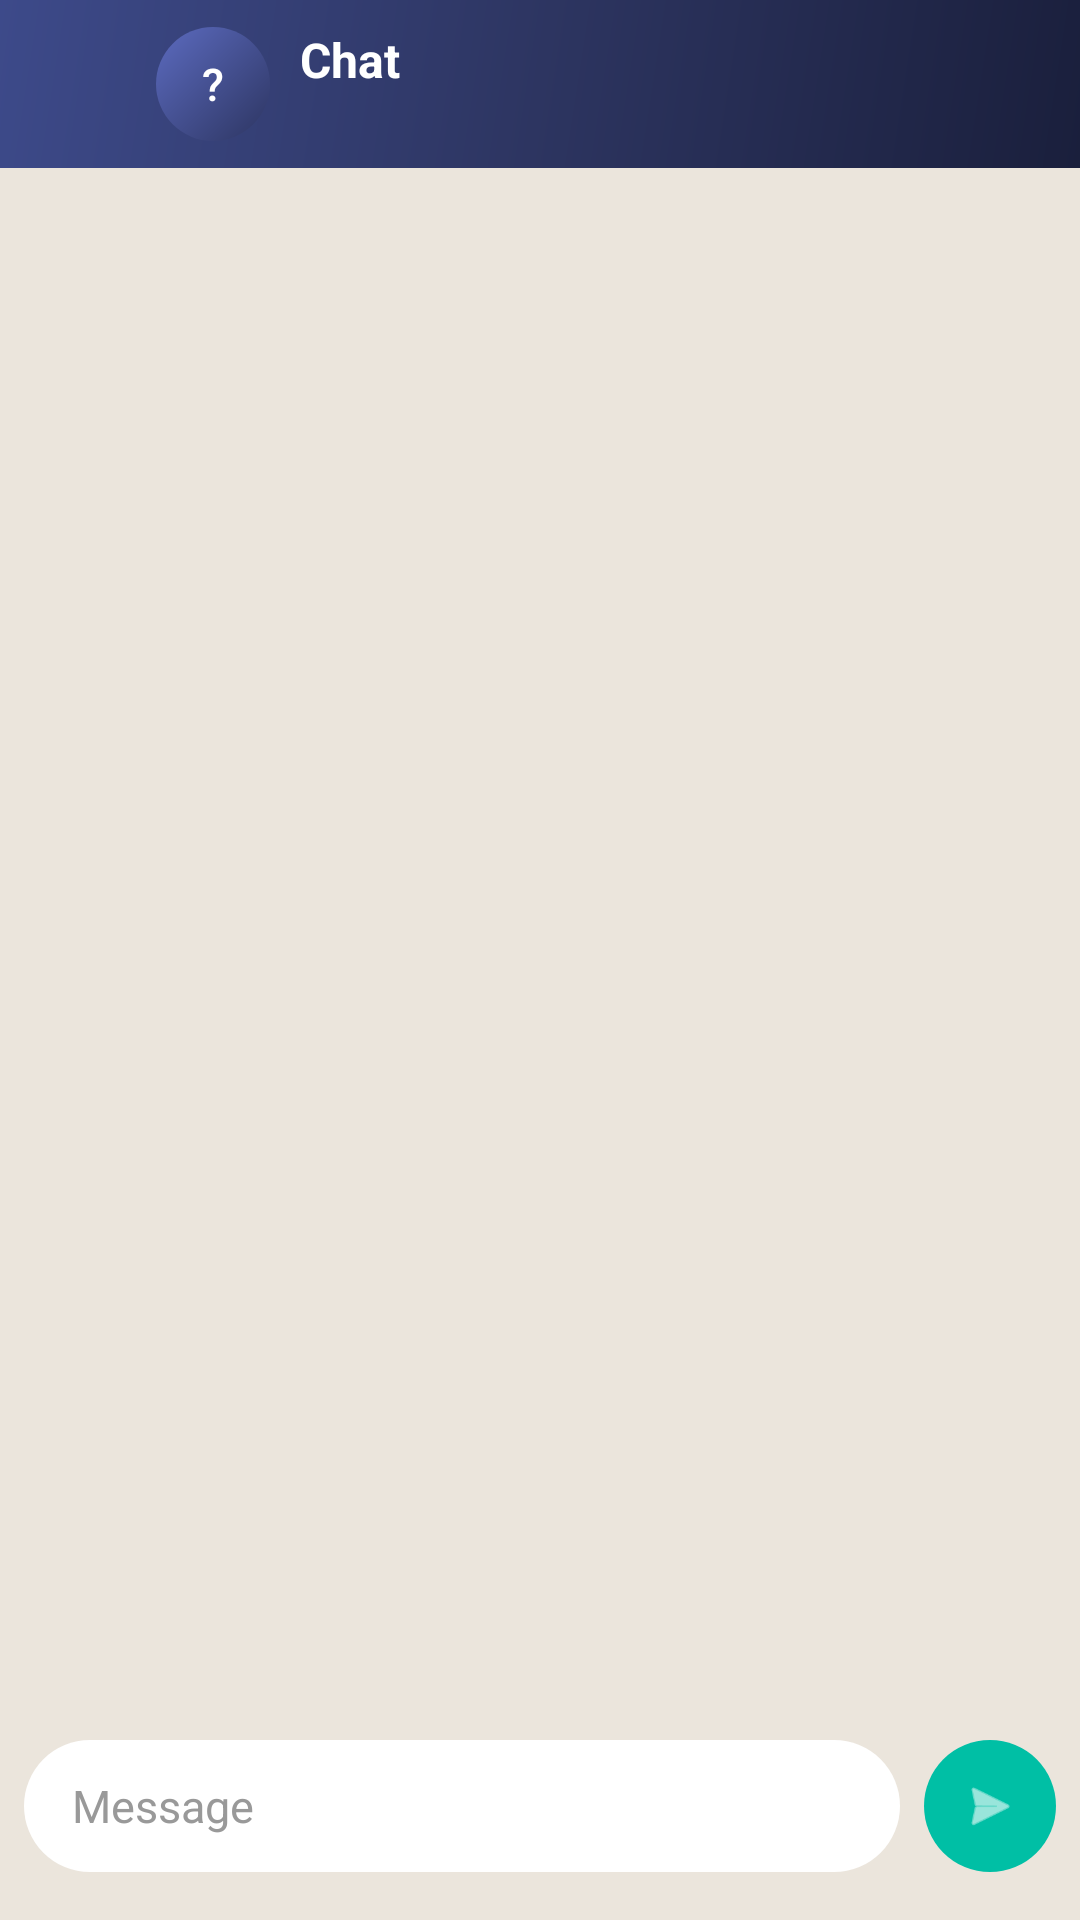

Icons on this 1080px×1920px Android screen, each with the point to tap as (x,y):
Send: (990,1806)
